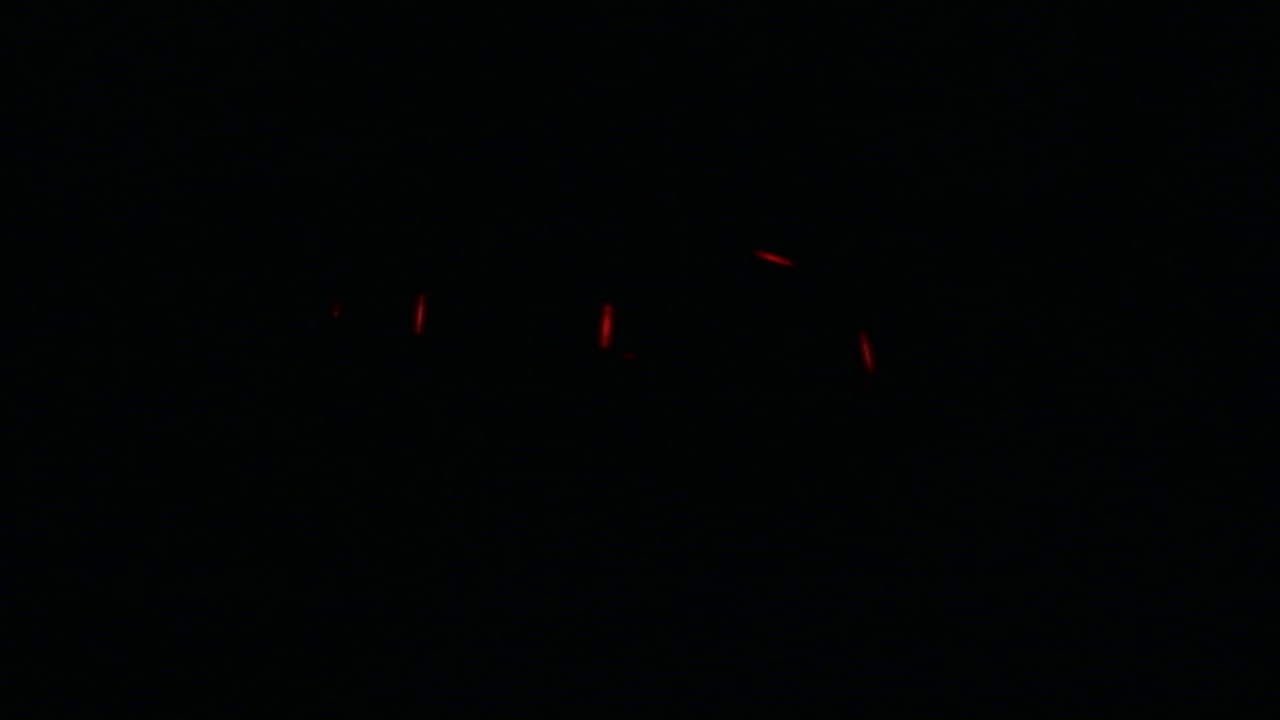lamp: (595, 299, 611, 346), (411, 288, 424, 326)
notpair2: (595, 302, 880, 380)
pair2: (414, 293, 613, 349)
